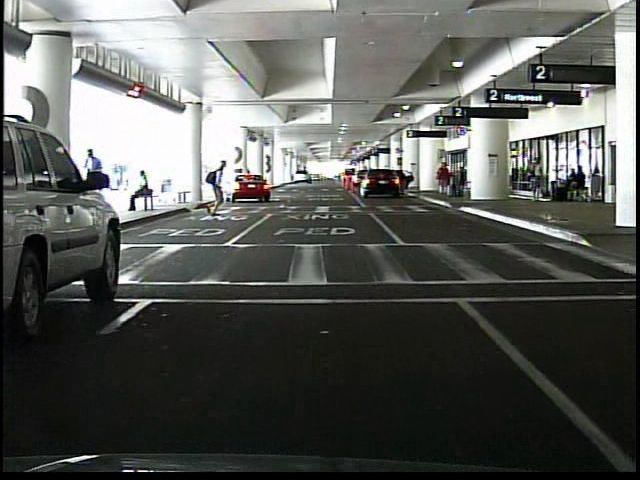person: (196, 158, 231, 218), (84, 147, 107, 216), (130, 171, 156, 214), (436, 162, 454, 200), (532, 155, 546, 200), (459, 164, 460, 198)
